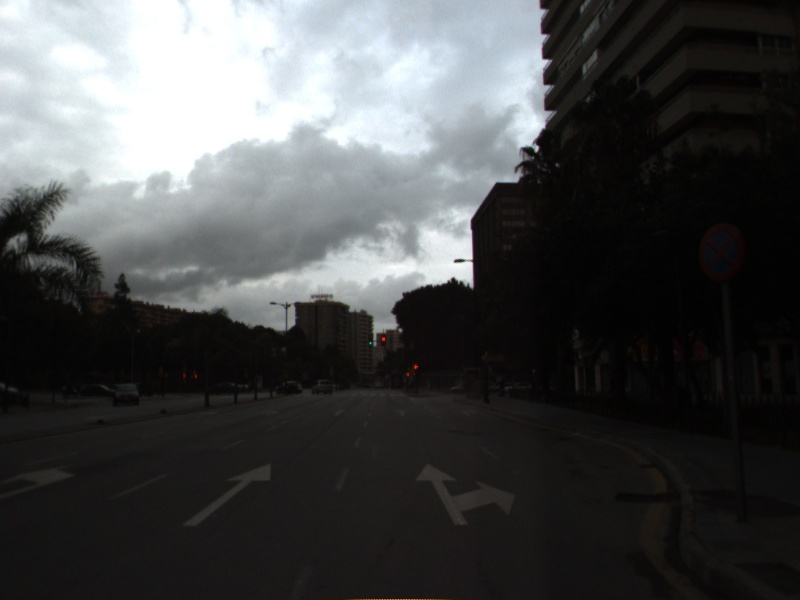LEFT: (1, 460, 80, 499)
STRAIGHT: (177, 459, 276, 530)
STRAIGHT_RIGHT: (410, 460, 520, 529)
